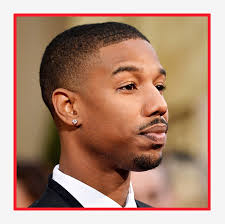no-mask: (34, 21, 173, 173)
